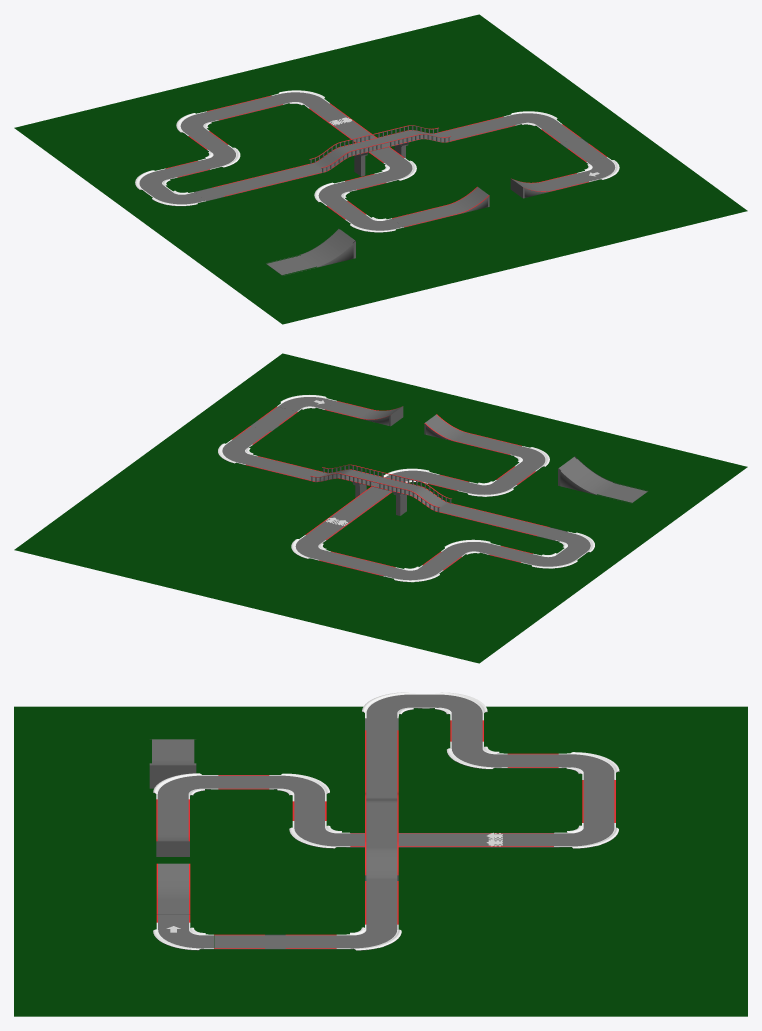
The model's file is low_poly_race_track.glb.
3 views of the same model, one above another, from view 1: azimuth 30°, elevation 25°; view 2: azimuth 150°, elevation 25°; view 3: azimuth 270°, elevation 25° (orthographic). The views are drawn at different scales.
Visible parts, largest first — view 1: Plane, track.007, track.042, track.041, track.074, track.008, track.019, track.016, track.061, track.023, track.031, track.051 (+6 smaller); view 2: Plane, track.007, track.042, track.041, track.074, track.008, track.019, track.028, track.013, track.056, track.002, track.023 (+5 smaller); view 3: Plane, track.007, track.042, track.074, track.041, track.019, track.068, track.031, track.002, track.051, track.013, track.061 (+18 smaller).
Part boxes in pixels (box(x1,y1,x2,y2)): Plane: box(14, 14, 747, 324); track.007: box(277, 125, 483, 180); track.042: box(266, 229, 355, 275); track.041: box(425, 187, 489, 219); track.074: box(510, 176, 575, 198); track.008: box(277, 124, 483, 180); track.019: box(194, 180, 256, 201); track.016: box(147, 188, 205, 206); track.061: box(345, 214, 403, 232); track.023: box(272, 92, 328, 108); track.031: box(504, 113, 561, 129); track.051: box(375, 158, 415, 182); Plane: box(14, 353, 747, 663); track.007: box(278, 464, 483, 520); track.042: box(558, 456, 647, 503); track.041: box(424, 414, 488, 447); track.074: box(338, 404, 403, 426); track.008: box(278, 464, 483, 519); track.019: box(505, 519, 567, 540); track.028: box(383, 565, 443, 582); track.013: box(521, 552, 580, 568); track.056: box(458, 480, 516, 496); track.002: box(442, 542, 500, 556); track.023: box(292, 535, 330, 560); Plane: box(14, 706, 747, 1016); track.007: box(365, 773, 398, 903); track.042: box(149, 739, 196, 788); track.074: box(157, 863, 189, 914); track.041: box(156, 821, 189, 856); track.019: box(365, 718, 398, 751); track.068: box(214, 934, 285, 949); track.031: box(336, 924, 401, 950); track.002: box(447, 741, 507, 769); track.051: box(290, 821, 350, 848); track.013: box(426, 694, 487, 720); track.061: box(153, 775, 218, 799).
Bounding box in the file's own units: 6.14 × 0.3947 × 6.14.
